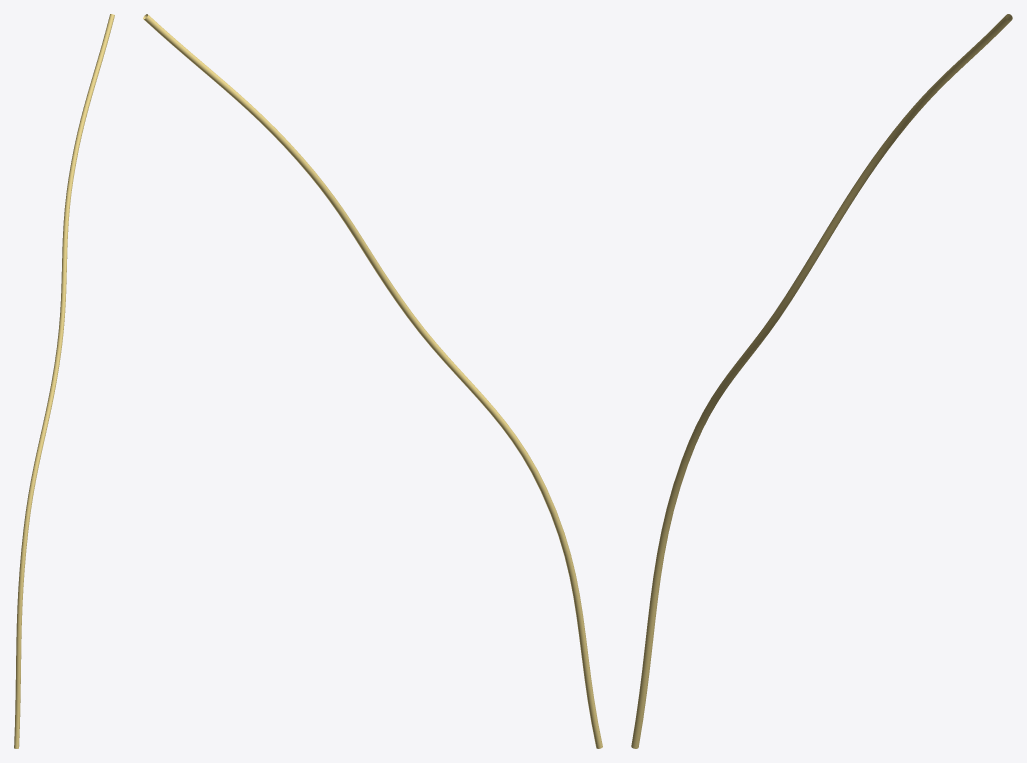
3 renders of one model, left to right at view 1: azimuth 30°, elevation 25°; view 2: azimuth 150°, elevation 25°; view 3: azimuth 270°, elevation 25°, orthographic. The views are drawn at different scales.
Visible parts, largest first — view 1: ZA_6e0bf3b88ba37172; view 2: ZA_6e0bf3b88ba37172; view 3: ZA_6e0bf3b88ba37172.
Boxes of the visible parts, x1,y1,x2,y2 form: ZA_6e0bf3b88ba37172: [14, 14, 114, 748]; ZA_6e0bf3b88ba37172: [143, 14, 602, 748]; ZA_6e0bf3b88ba37172: [631, 14, 1012, 748].
Size of the model in its own units: 0.0502 by 0.1267 by 0.049.
